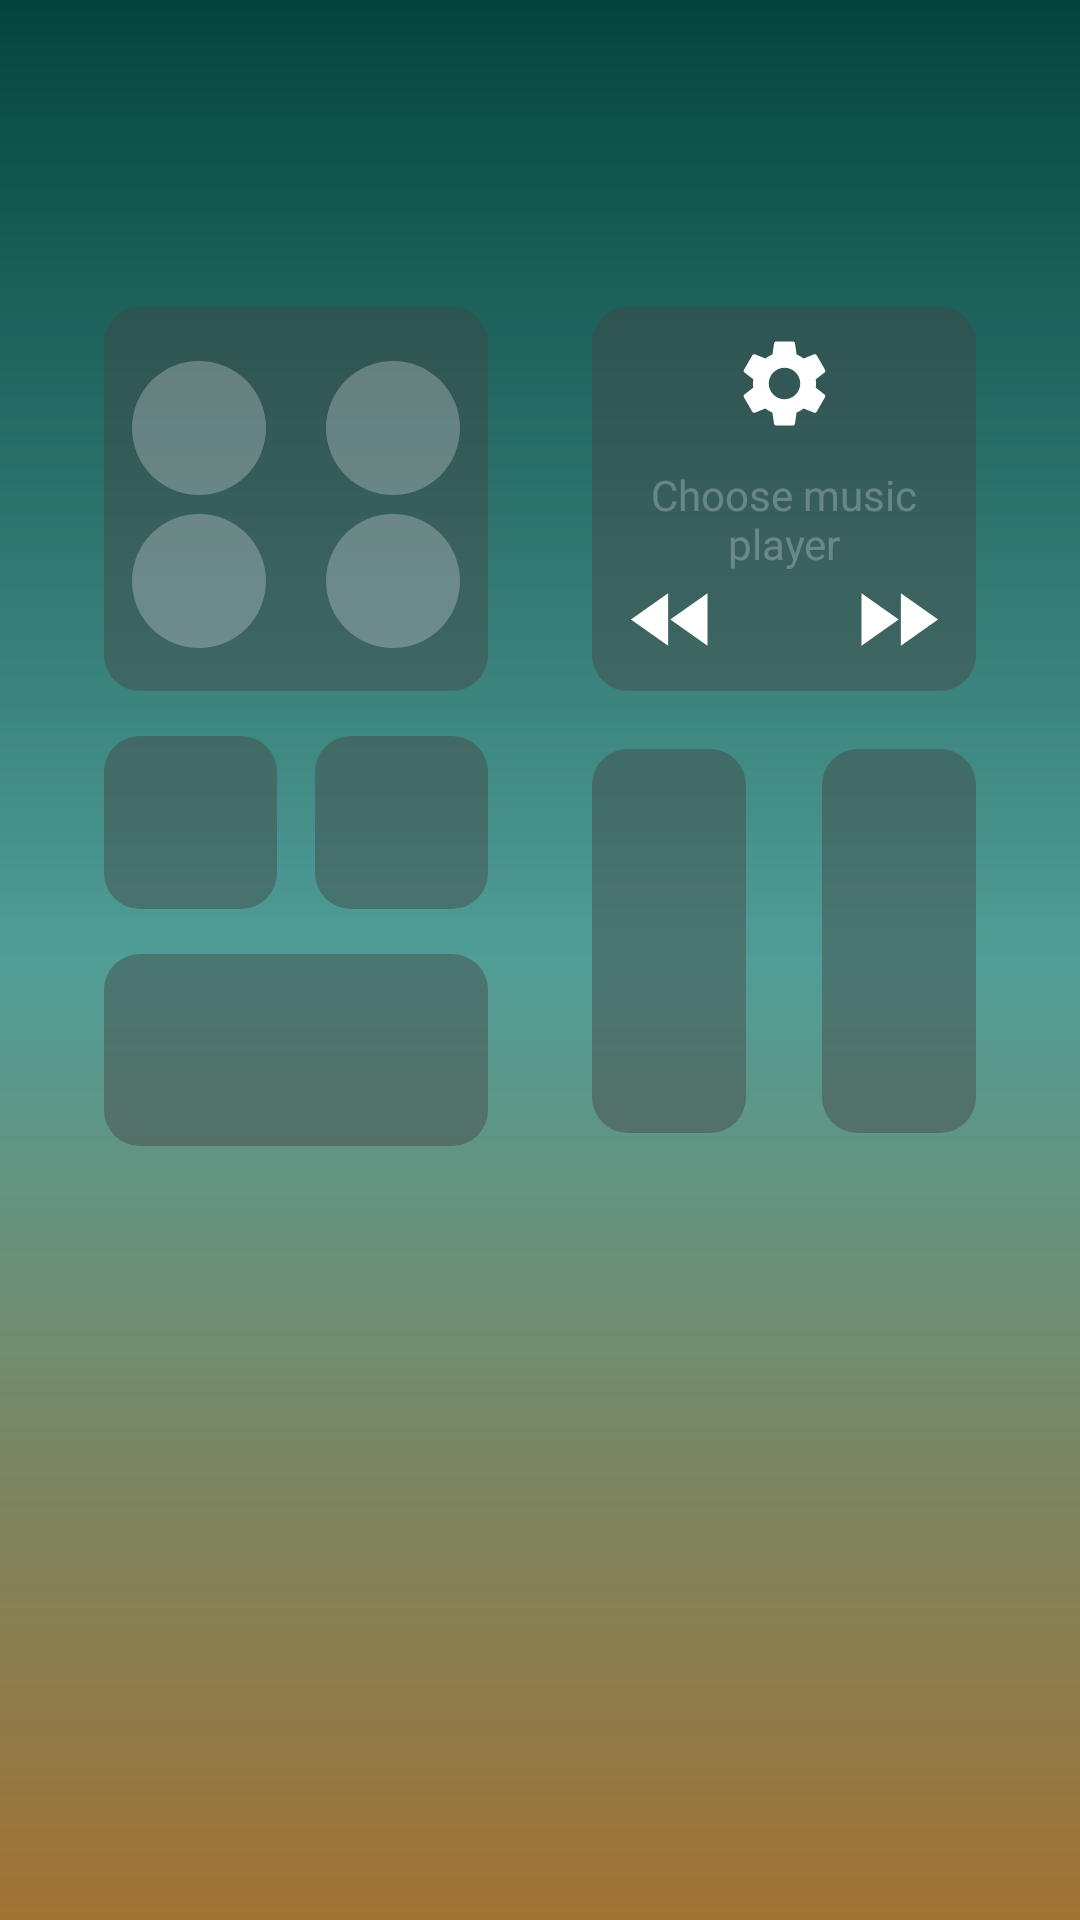

Screen size 1080x1920. Icon name, then its center in pixels as point (x, y):
forward: point (899, 619)
rewind: point (669, 619)
setting: point (784, 383)
